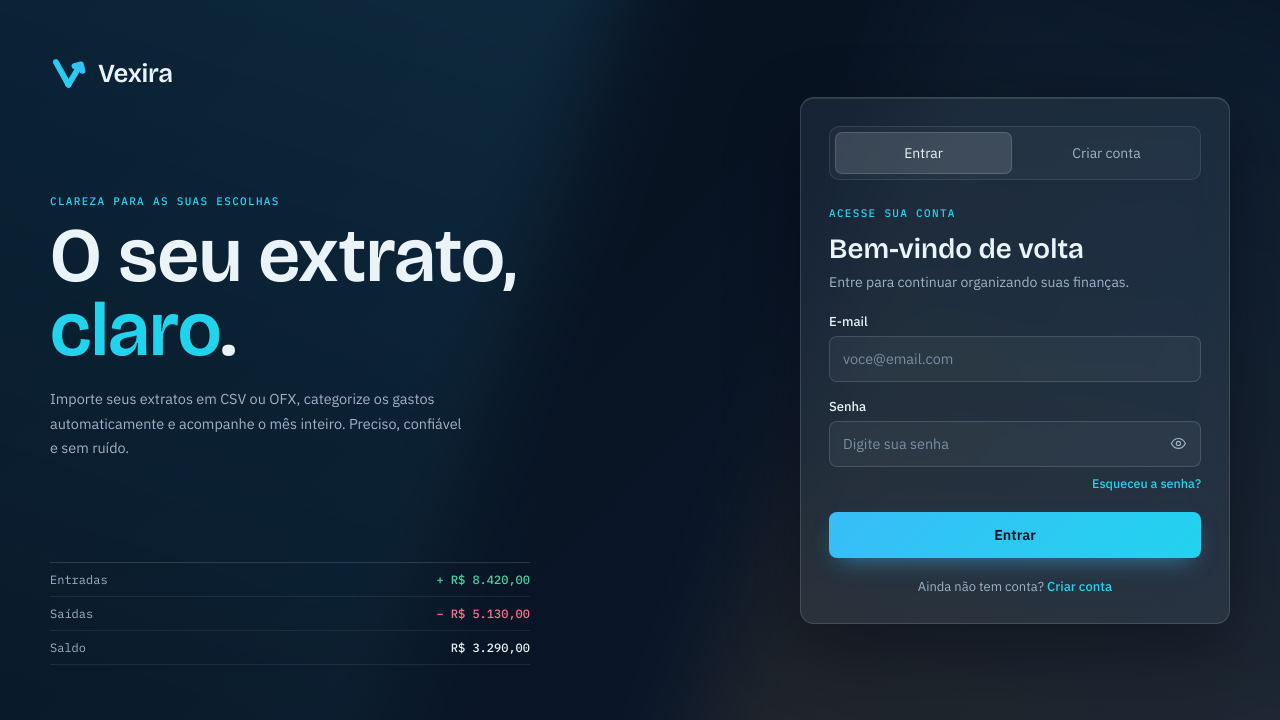
AuthPage › clicar na aba Criar conta mostra o formulário de cadastro
This screenshot has width=1280, height=720.
Step 1. Click the tab "Criar conta" → (1106, 152), box [1018,132,1195,174]
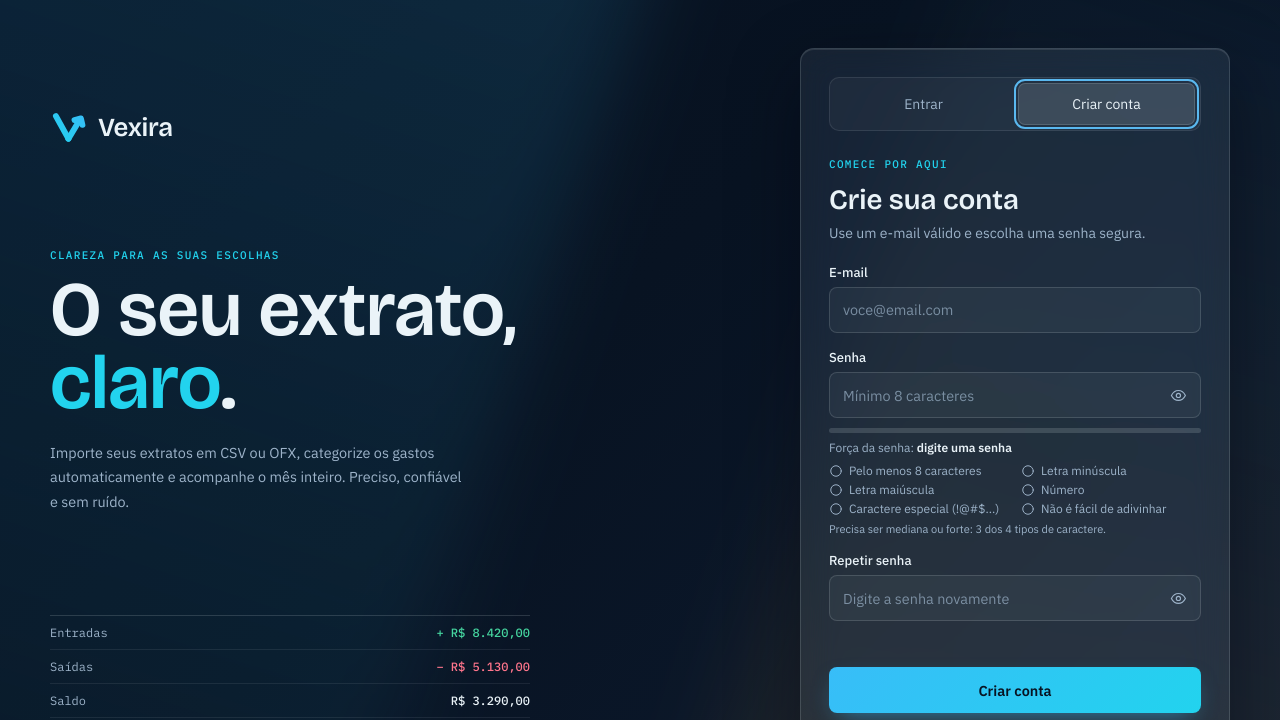
Check: the heading "Crie sua conta" is shown, box [829,183,1019,217]
Check: the password field labelled "Repetir senha" is shown, box [829,575,1201,621]
